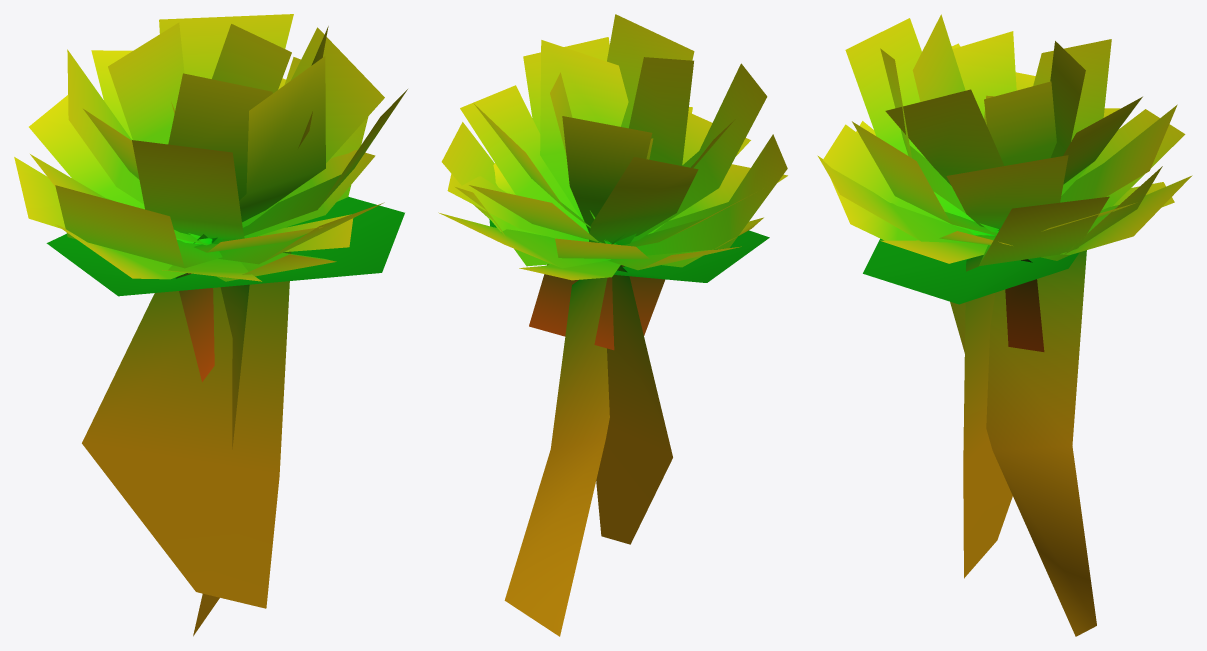
The model's file is Water Cabbage_LOD2_Var2_sjdlV.fbx.
3 renders of one model, left to right at view 1: azimuth 30°, elevation 25°; view 2: azimuth 150°, elevation 25°; view 3: azimuth 270°, elevation 25°, orthographic. The views are drawn at different scales.
Visible parts, largest first — view 1: _7d07_Var2_LOD2; view 2: _7d07_Var2_LOD2; view 3: _7d07_Var2_LOD2.
Part boxes in pixels (x1,y1,x2,y2): _7d07_Var2_LOD2: (14, 14, 407, 636); _7d07_Var2_LOD2: (438, 14, 787, 636); _7d07_Var2_LOD2: (817, 14, 1192, 636).
Size of the model in its own units: 18.5 by 32.56 by 18.69.
